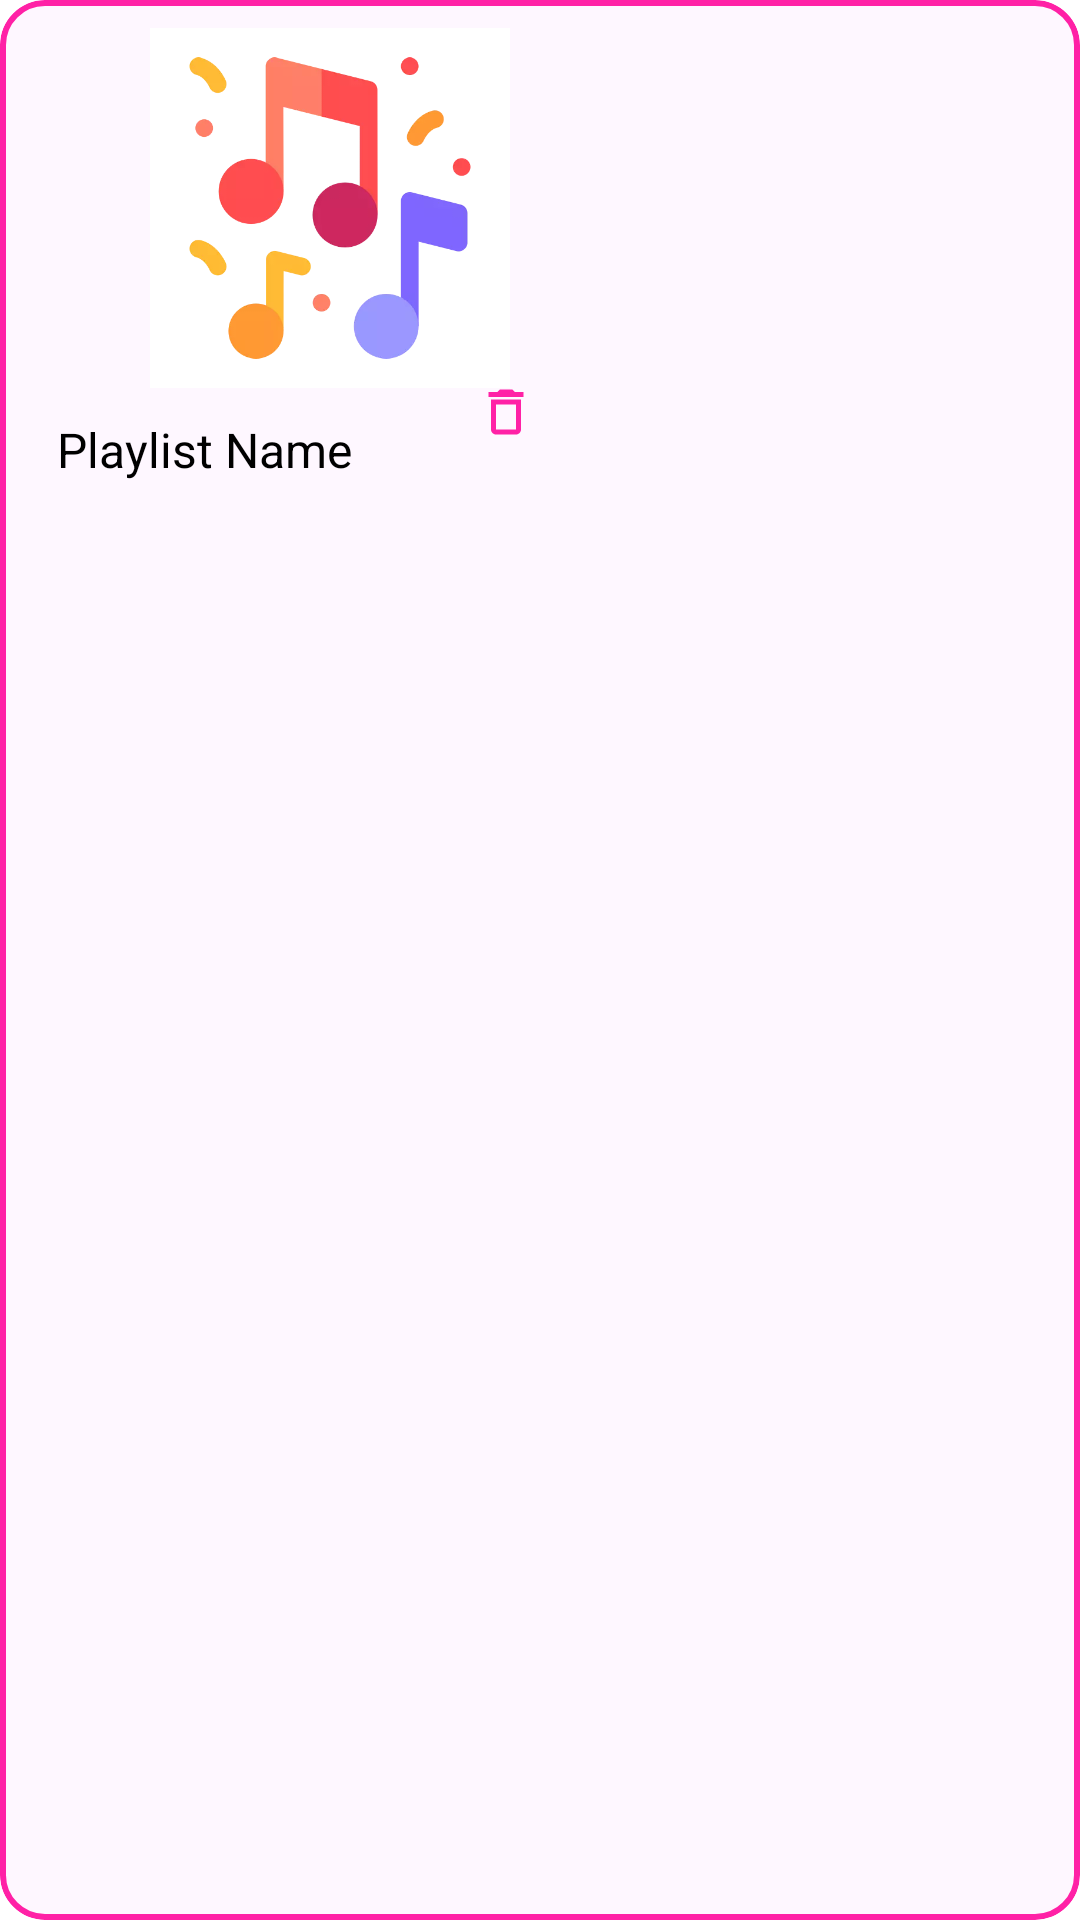

Icons on this 1080x1920 Android screen, each with the point to tap as [x,y]:
Delete: [506,412]
